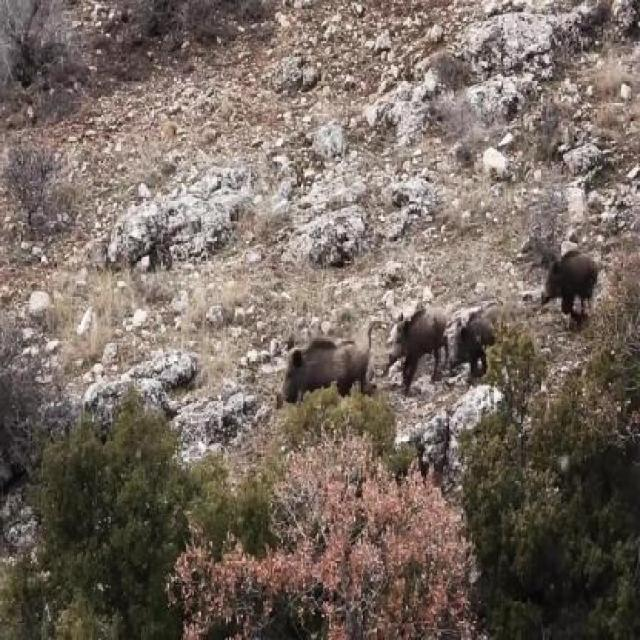Boar: (269, 322, 374, 418), (377, 294, 461, 408)
